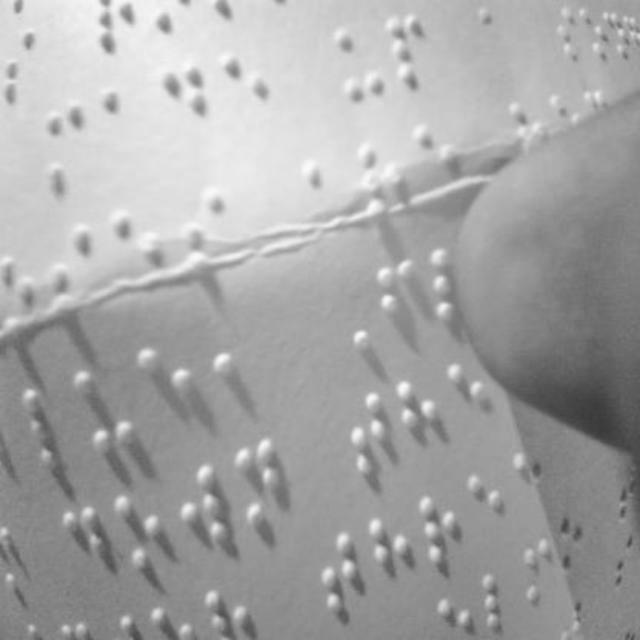braiile: (176, 455, 236, 561), (74, 355, 138, 451), (136, 340, 194, 444), (235, 432, 288, 538), (312, 524, 366, 628), (52, 500, 108, 600), (157, 59, 210, 162), (114, 488, 168, 586), (368, 510, 420, 610), (221, 48, 273, 148), (342, 393, 398, 483), (330, 15, 386, 101), (98, 82, 146, 180), (397, 376, 447, 470), (374, 254, 422, 350), (213, 326, 265, 414), (41, 100, 88, 196), (416, 492, 468, 578)
